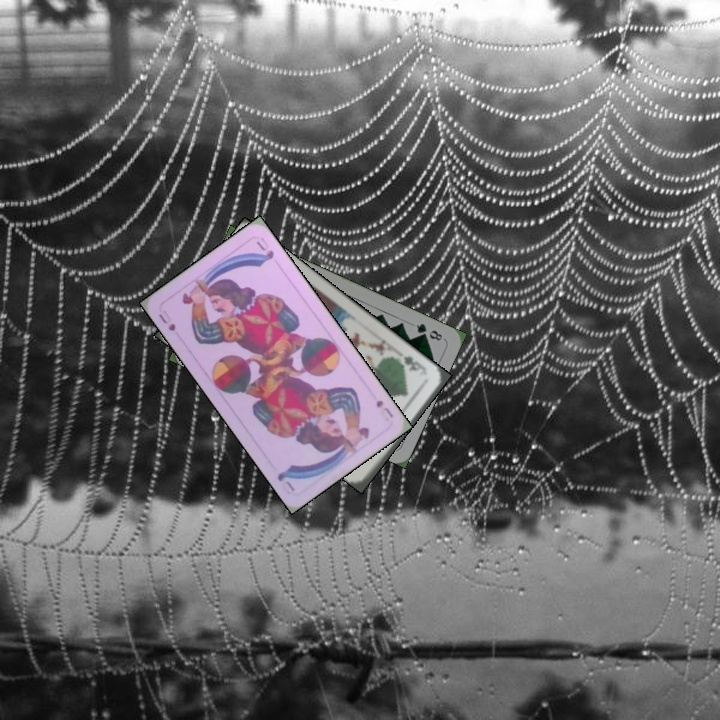G8: (412, 319, 445, 343)
GK: (399, 352, 428, 376)
SU: (155, 306, 178, 335), (372, 396, 396, 420)
